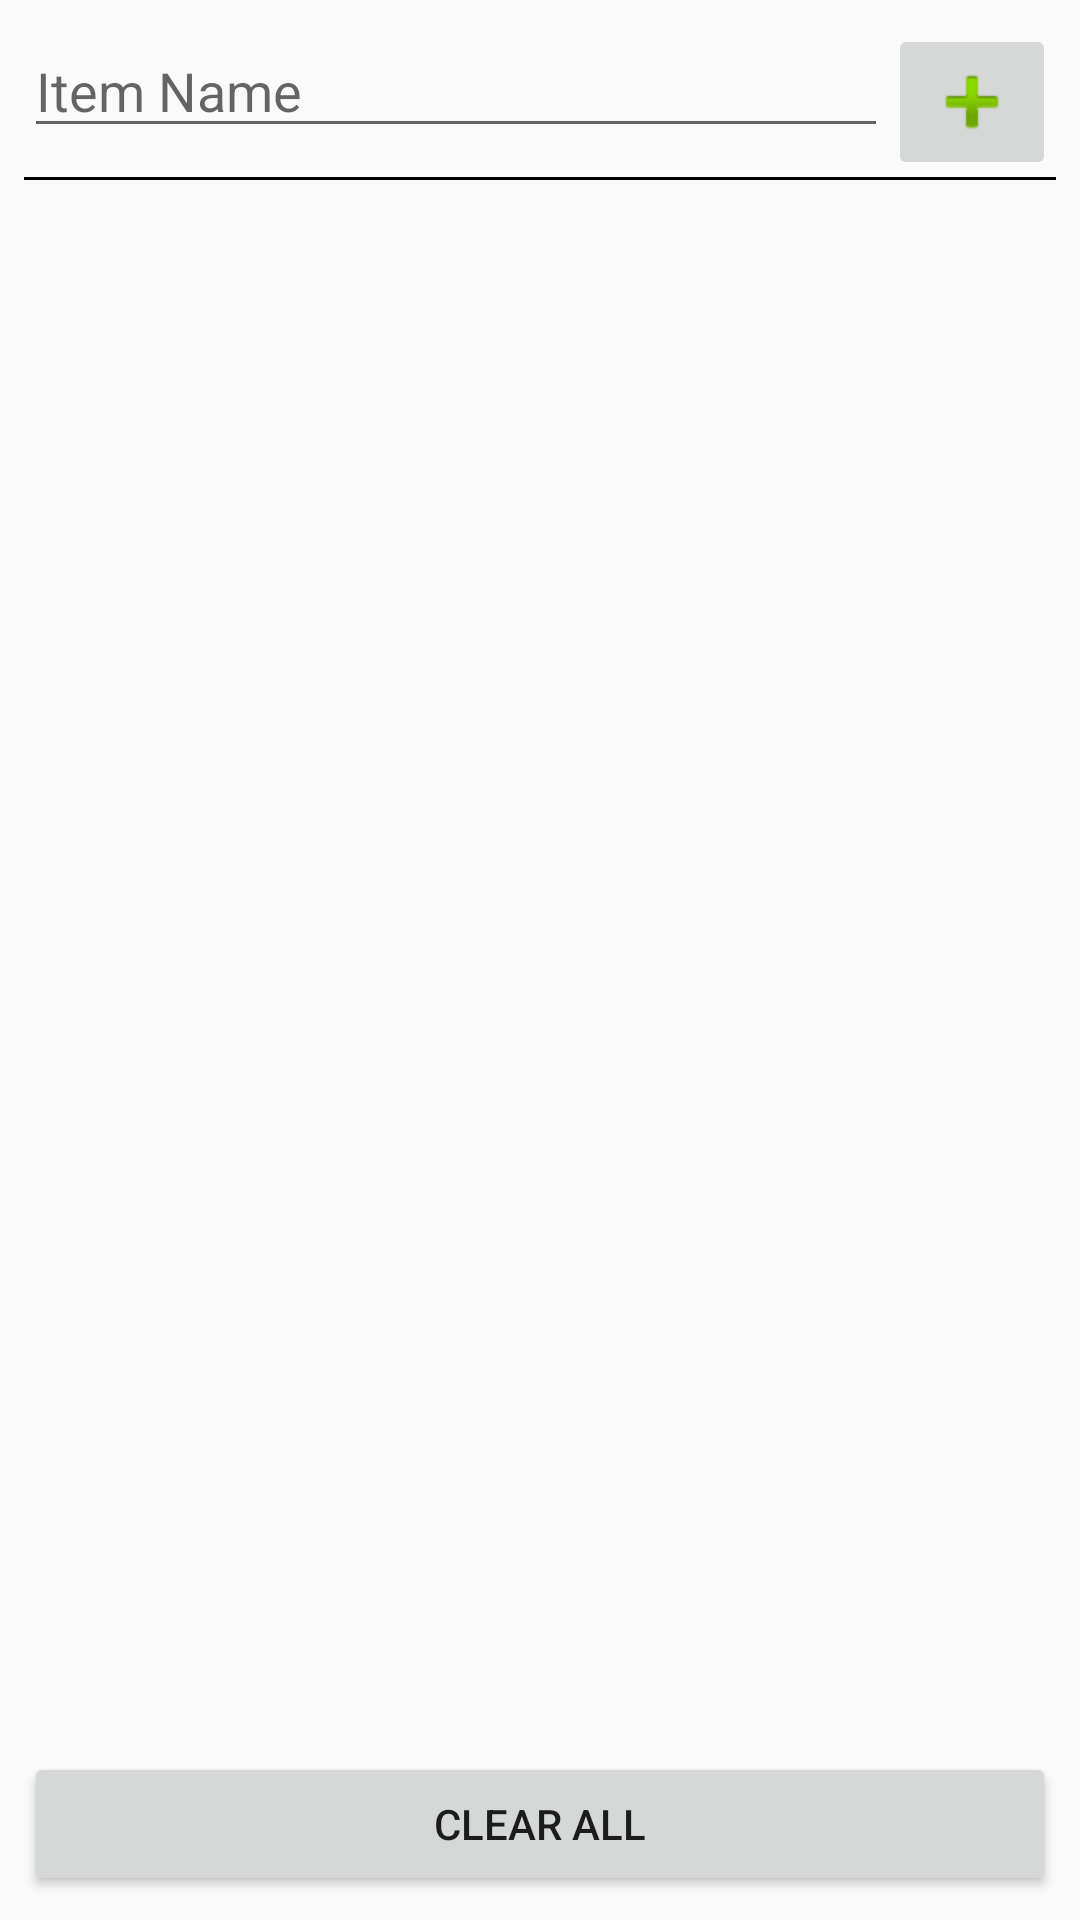

Screen size 1080 × 1920. Icon name, then its box in pixels as bbox(x1, y1, x2, y2):
Add Entry: bbox(900, 42, 1044, 162)
